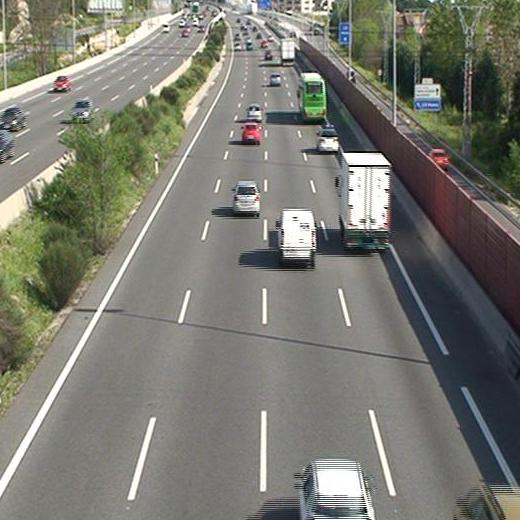bus: (296, 74, 326, 119)
car: (232, 182, 261, 212), (316, 130, 339, 153), (242, 123, 259, 142), (245, 106, 261, 121), (269, 74, 282, 86), (263, 50, 273, 60)
small-truck: (339, 153, 390, 251), (280, 39, 296, 66)
van: (278, 210, 316, 263)
